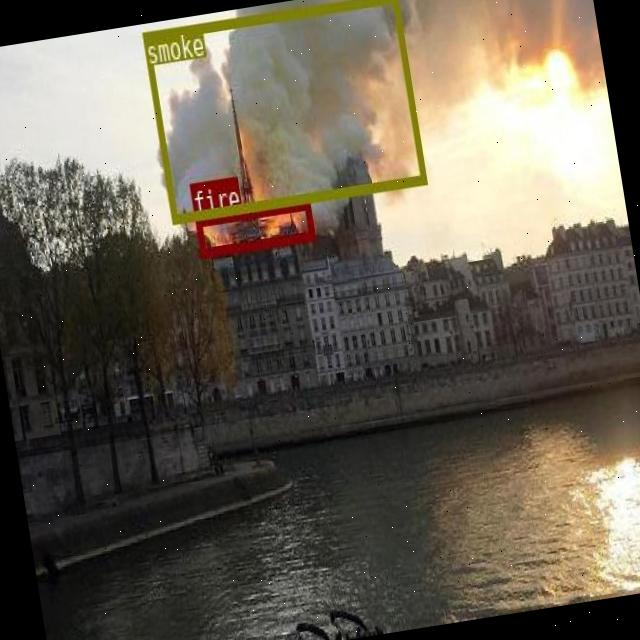fire: (194, 198, 314, 256)
smoke: (141, 0, 425, 223)
